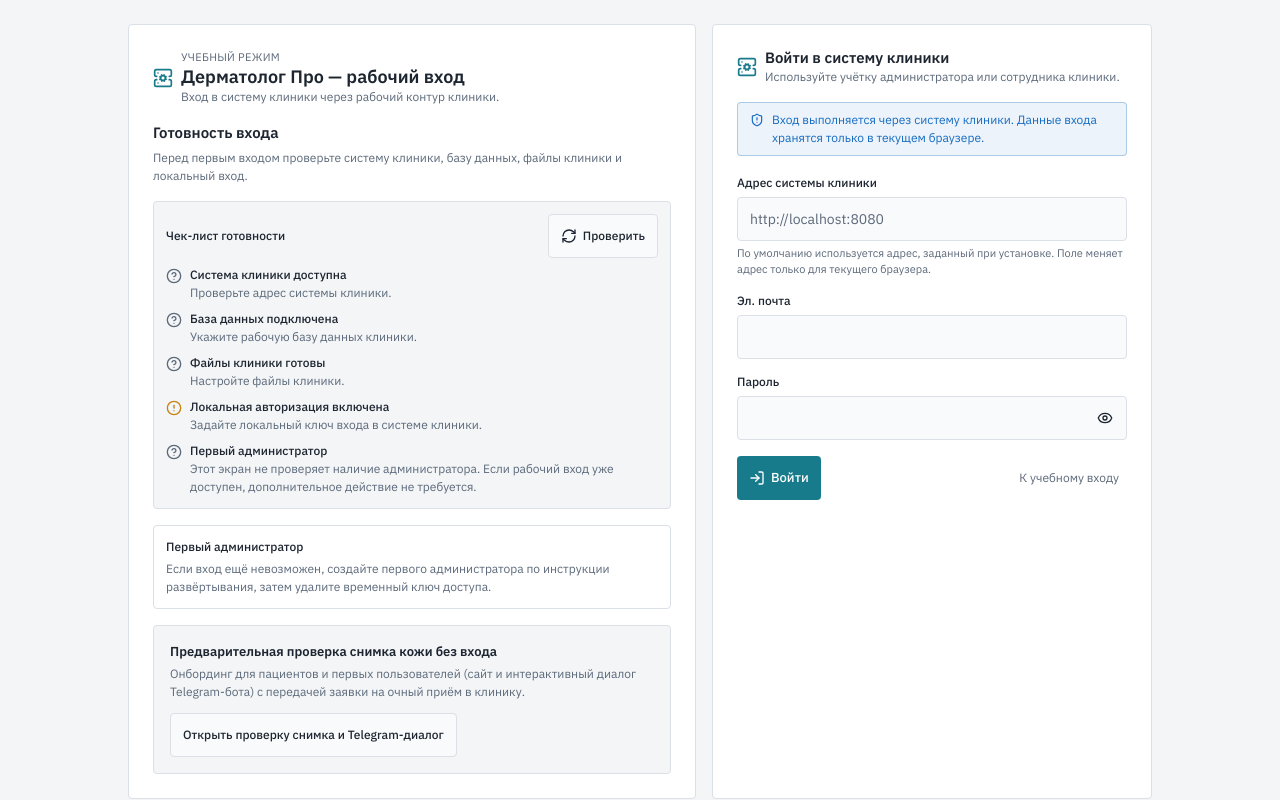
SelfHostedLoginPage › lets the user show and hide the password without changing it
Type "test-password" into the password field labelled "Пароль". click: (932, 418)
box: [737, 396, 1127, 440]
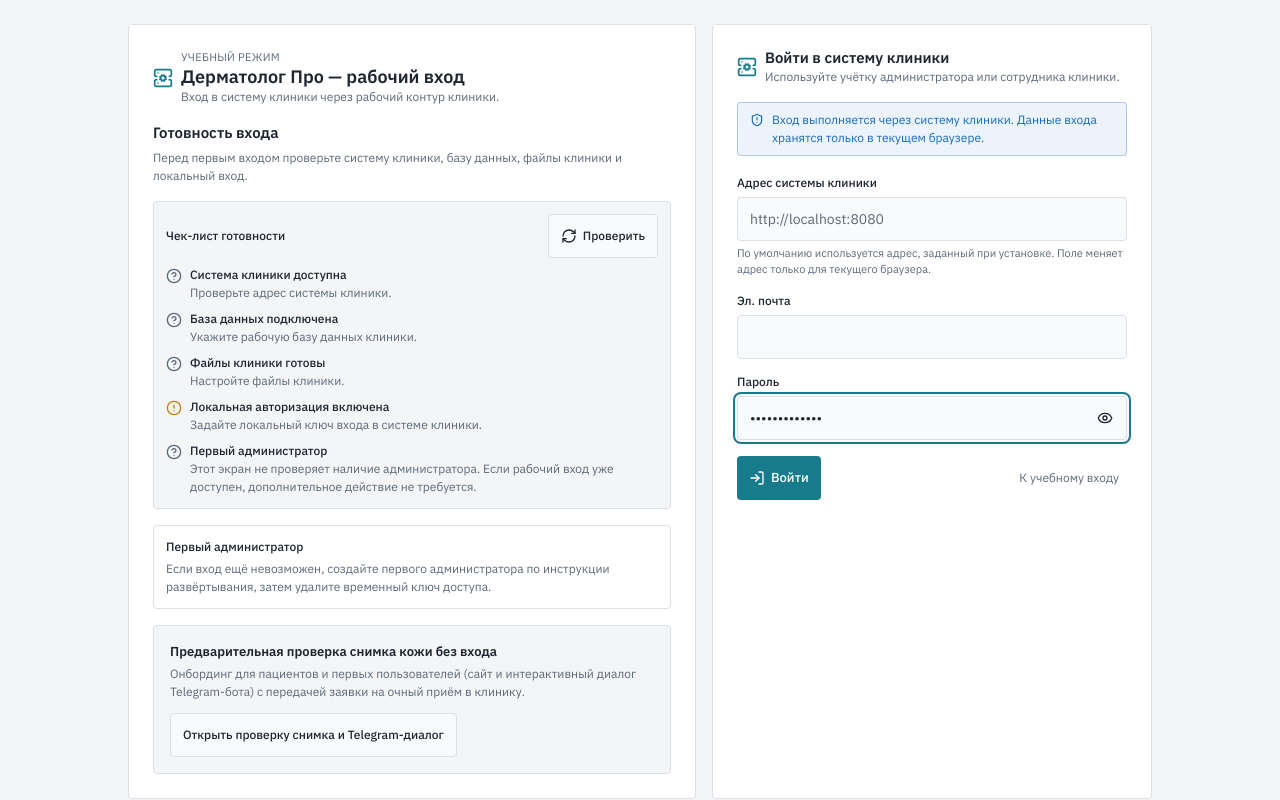
Click the button named "Показать введённые символы". click: click(1105, 418)
box: [1083, 396, 1127, 440]
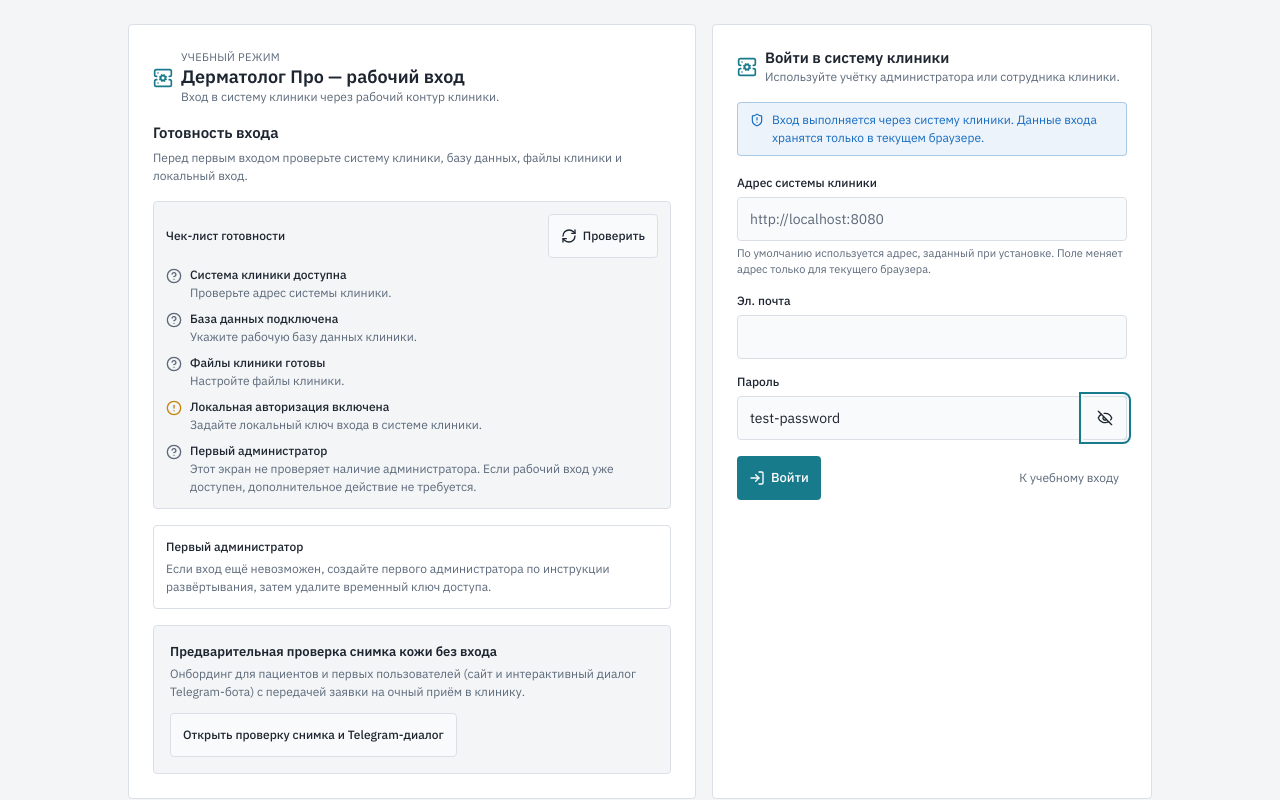
Expected: the field labelled "Пароль" shows its text, [737, 396, 1127, 440]
Click the button named "Скрыть введённые символы". click: click(1105, 418)
box: [1083, 396, 1127, 440]
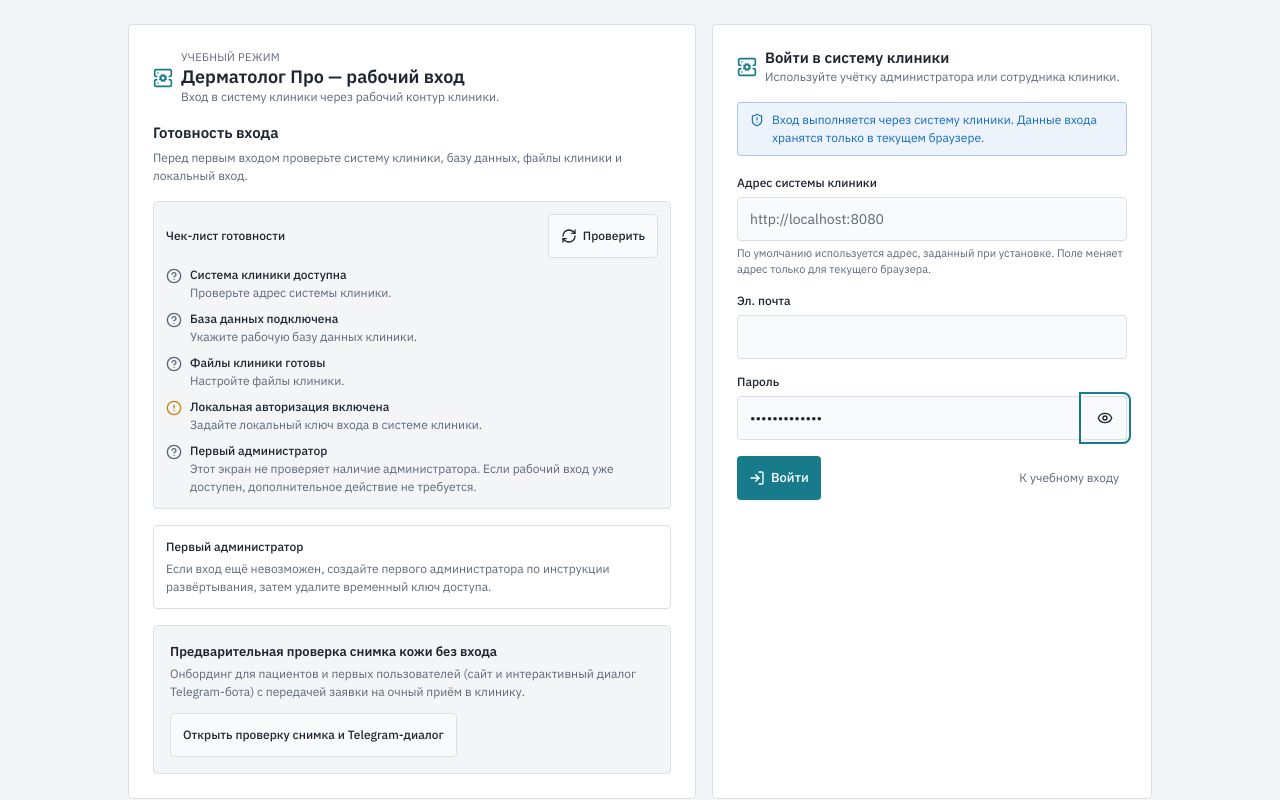
Expected: the password field labelled "Пароль" hides its text, [737, 396, 1127, 440]
